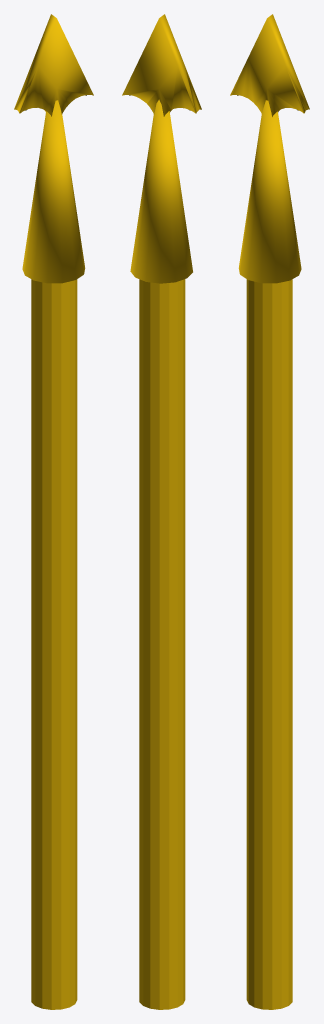
Rendered from BrilloLanza.fbx.
3 renders of one model, left to right at view 1: azimuth 30°, elevation 25°; view 2: azimuth 150°, elevation 25°; view 3: azimuth 330°, elevation 25°, orthographic.
Visible parts, largest first — view 1: Brillo Lanza; view 2: Brillo Lanza; view 3: Brillo Lanza.
Boxes of the visible parts, x1=… form: Brillo Lanza: x1=14, y1=14, x2=93, y2=1009; Brillo Lanza: x1=122, y1=14, x2=201, y2=1009; Brillo Lanza: x1=230, y1=14, x2=309, y2=1009.
Size of the model in its own units: 36.98 by 469 by 27.1.
Materials: 3 (2 with a texture image).
